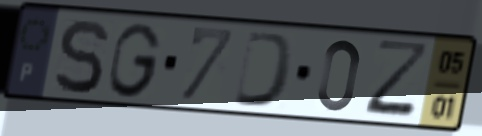0: (316, 37, 363, 114)
7: (180, 23, 237, 105)
D: (229, 28, 298, 111)
G: (106, 20, 165, 101)
S: (51, 16, 111, 96)
Z: (361, 37, 435, 123)
